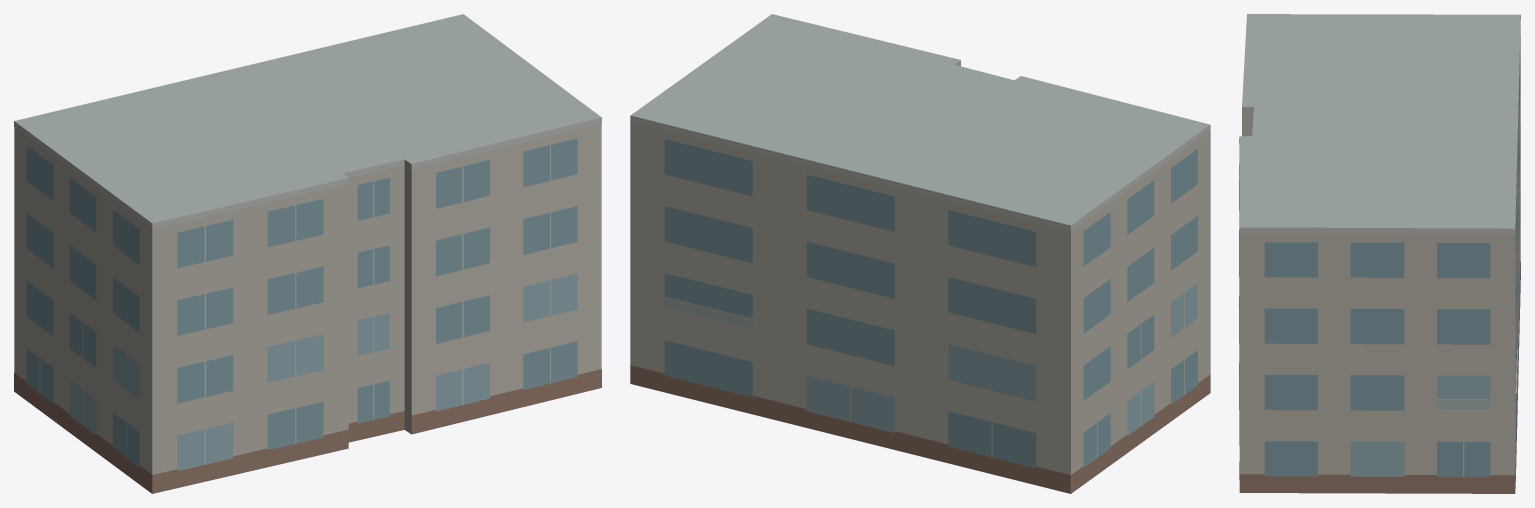
The model's file is survey-upis-32959998.glb.
3 renders of one model, left to right at view 1: azimuth 30°, elevation 25°; view 2: azimuth 150°, elevation 25°; view 3: azimuth 270°, elevation 25°, orthographic.
Visible parts, largest first — view 1: survey-upis-32959998.tmp; view 2: survey-upis-32959998.tmp; view 3: survey-upis-32959998.tmp.
Boxes of the visible parts, bbox=[...] form: survey-upis-32959998.tmp: bbox=[14, 14, 601, 493]; survey-upis-32959998.tmp: bbox=[630, 14, 1210, 493]; survey-upis-32959998.tmp: bbox=[1239, 14, 1520, 493].
Bounding box in the file's own units: 20.66 × 11.9 × 11.45.
